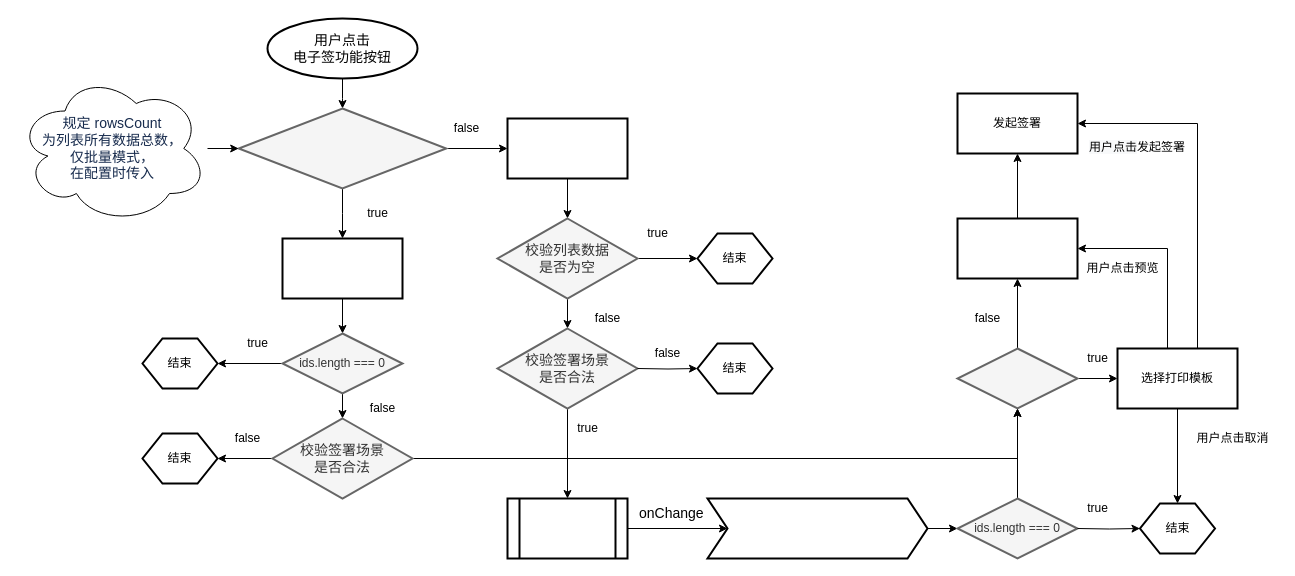
The diagram is 1295 pixels wide and 576 high, and some of its shapes have lost their labels. The shapes that lost their labels are listed below. From the top down, each one's centre as x and y in pixels, then its label:
At pixel 342 148: "typeof rowsCount === 'undefined'".
At pixel 567 148: "批量编辑模式".
At pixel 342 268: "行模式".
At pixel 1017 248: "电子签预览".
At pixel 1017 378: "模板数 > 1".
At pixel 567 528: "显示组件打开列表选择弹层".
At pixel 817 528: "handleSelected 调用ctx.$action.next(ids)".
